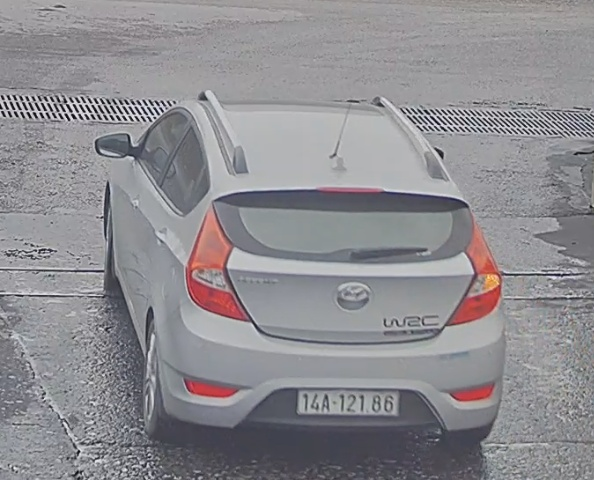vehicle plate: (294, 383, 406, 421)
